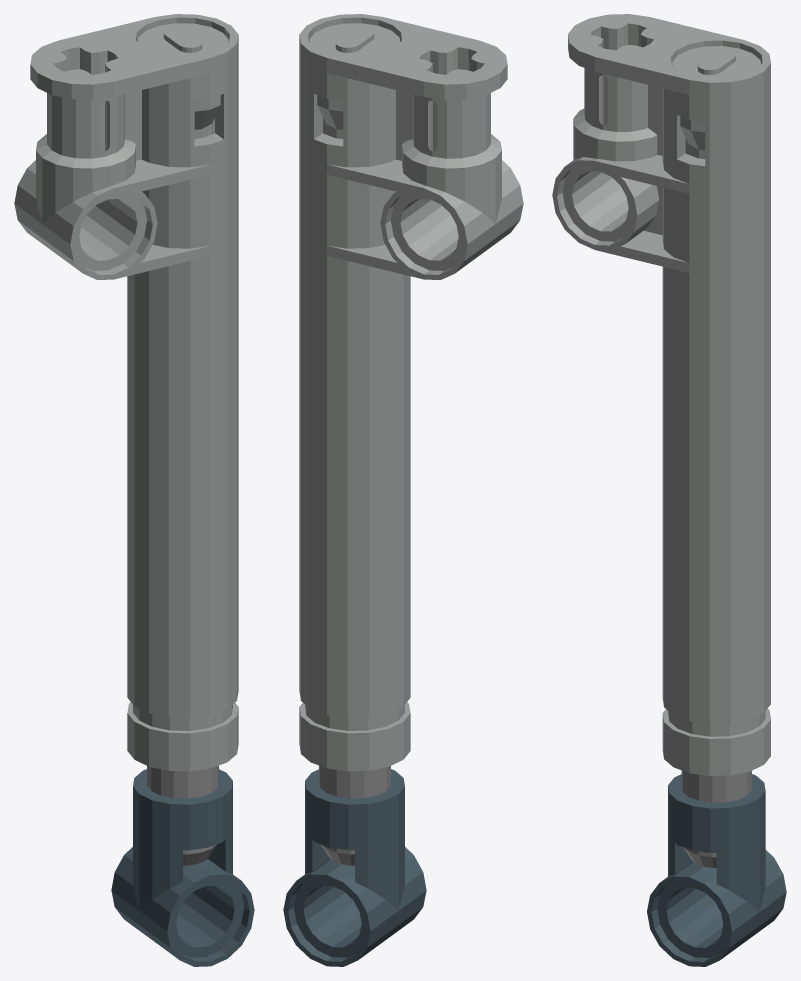
3 renders of one model, left to right at view 1: azimuth 30°, elevation 25°; view 2: azimuth 150°, elevation 25°; view 3: azimuth 330°, elevation 25°, orthographic. The views are drawn at different scales.
Visible parts, largest first — view 1: world; view 2: world; view 3: world.
Boxes of the visible parts, x1,y1,x2,y2 form: world: (14, 14, 254, 966); world: (283, 14, 523, 966); world: (552, 14, 786, 966).
Size of the model in its own units: 0.016 by 0.0716 by 0.008.
